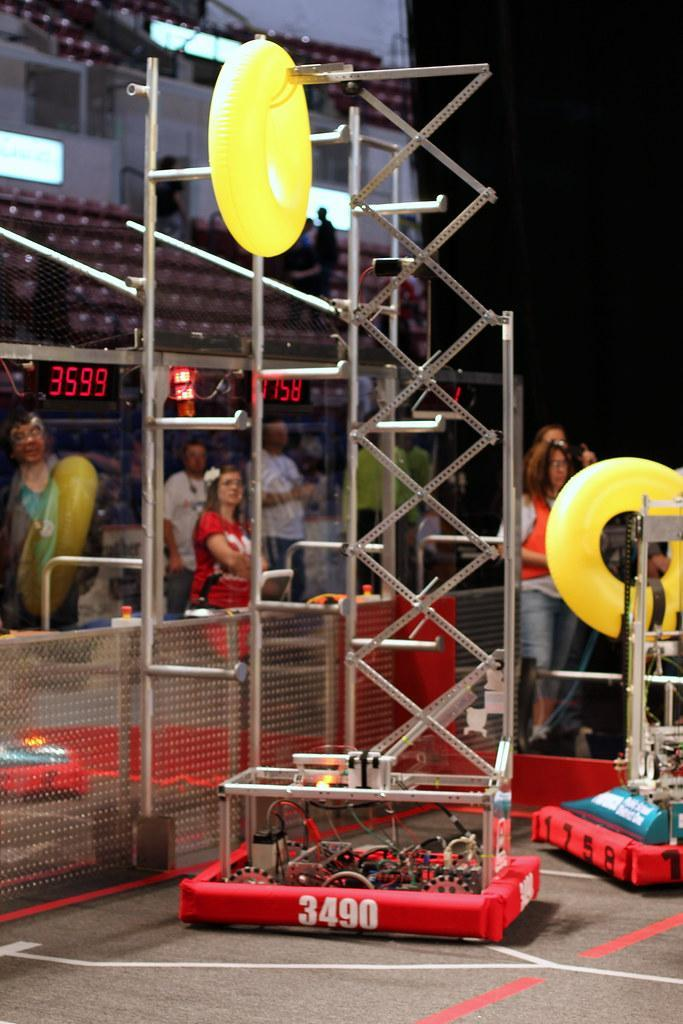robot: (164, 700, 549, 951), (527, 459, 683, 904)
